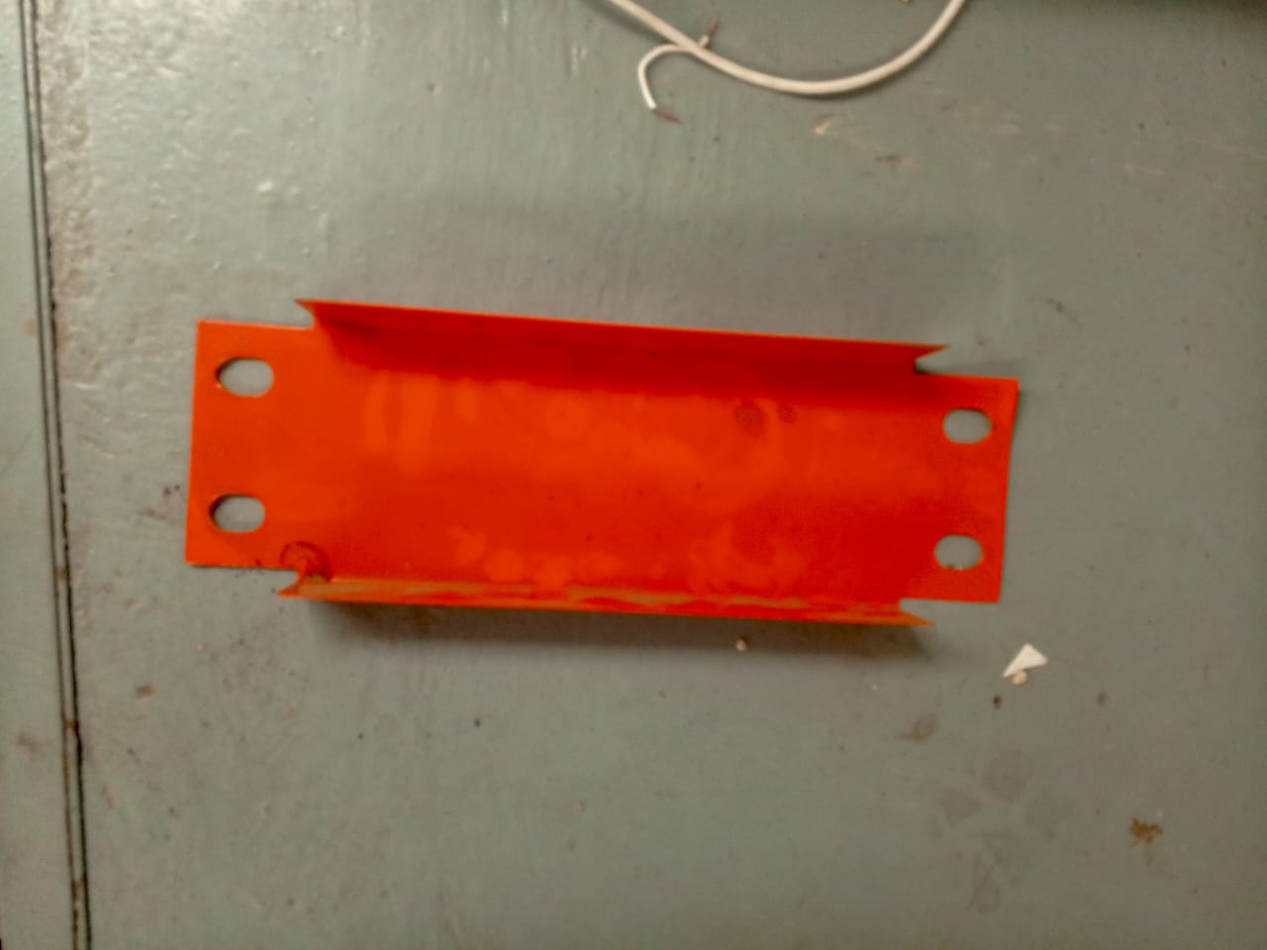Ordinario: (182, 295, 1020, 629)
